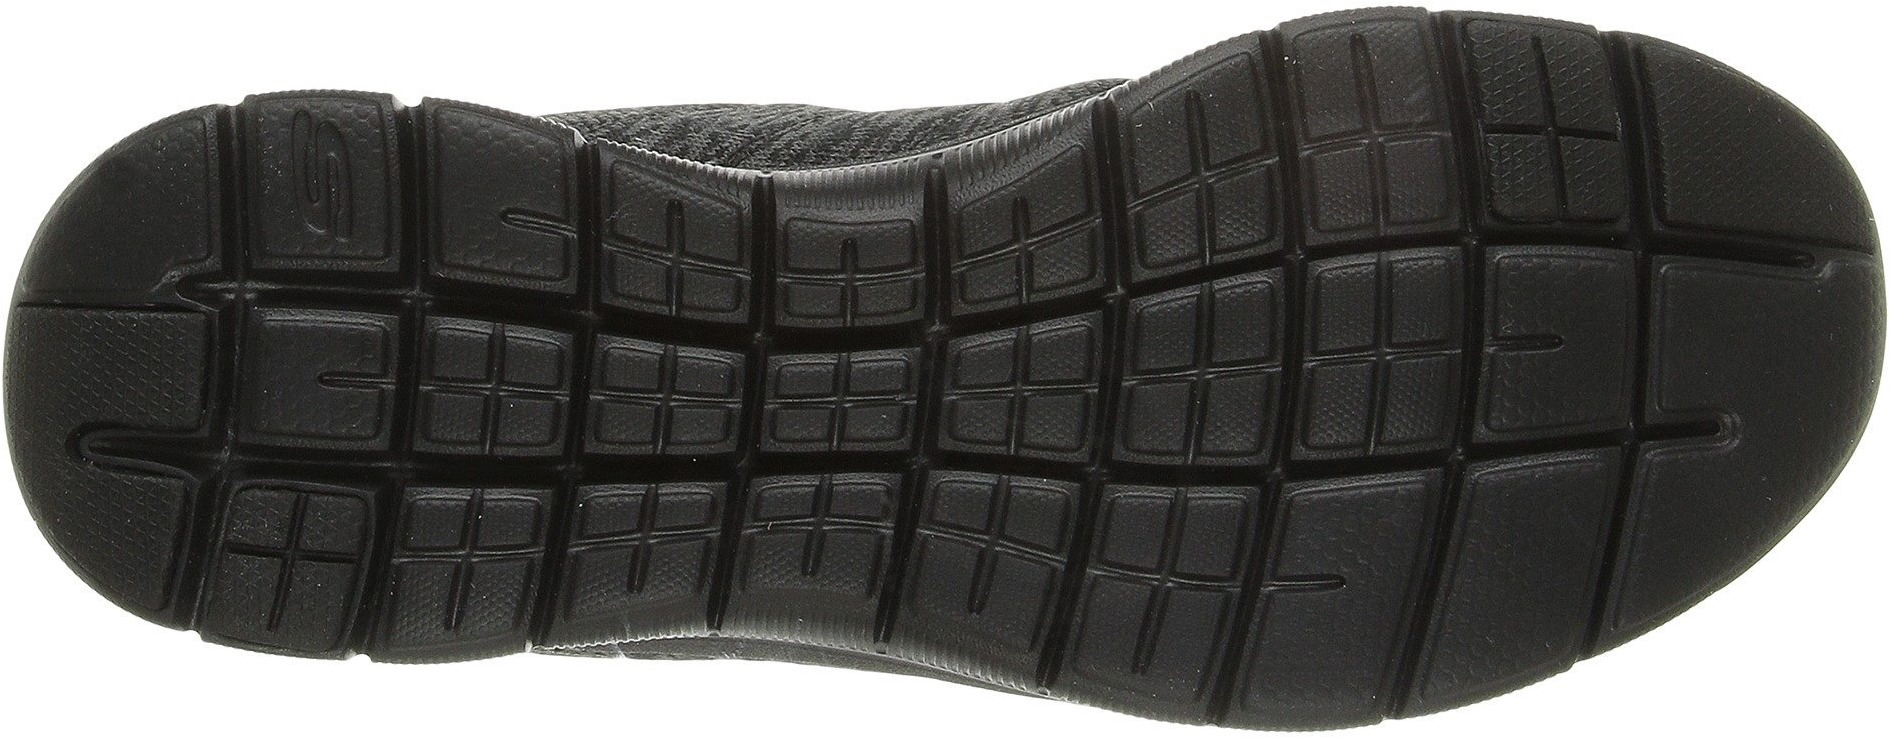quad: (742, 225, 1164, 621), (1188, 71, 1499, 411), (416, 306, 730, 617)
